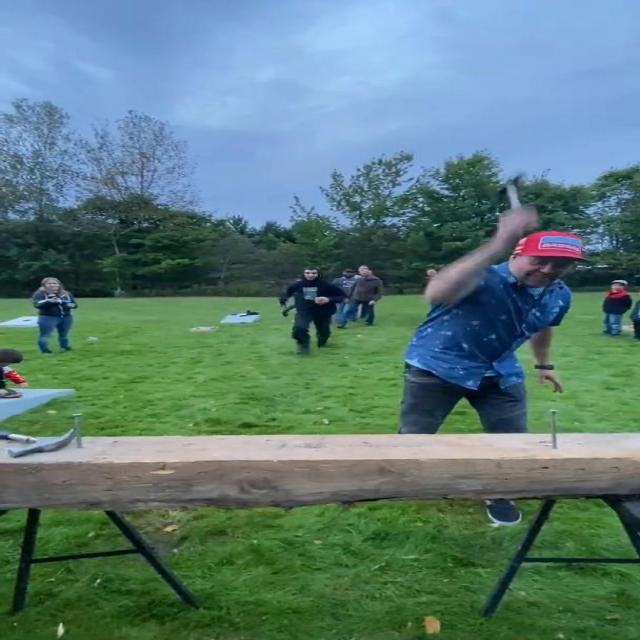hammer: (0, 426, 75, 459)
